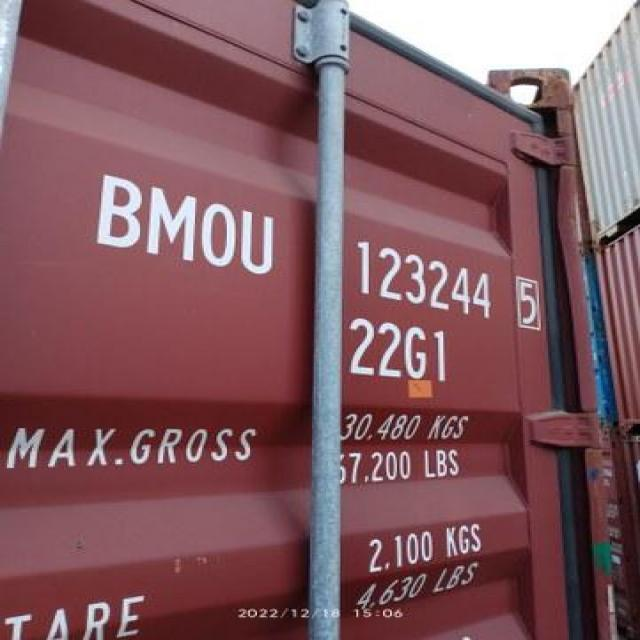ISO: (334, 308, 468, 384)
container_number: (90, 166, 546, 326)
